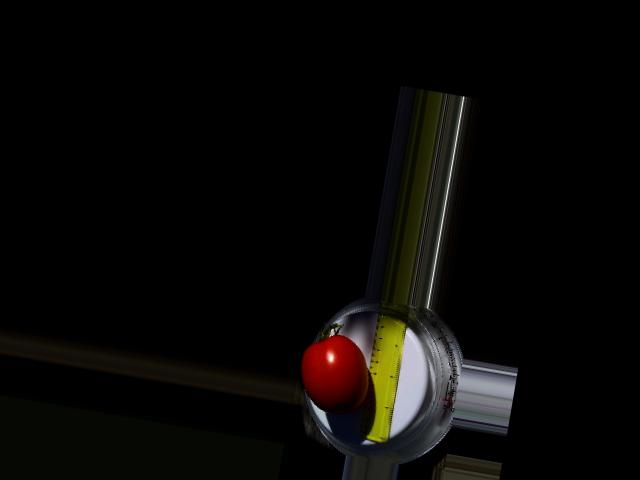tomato: (293, 328, 377, 418)
